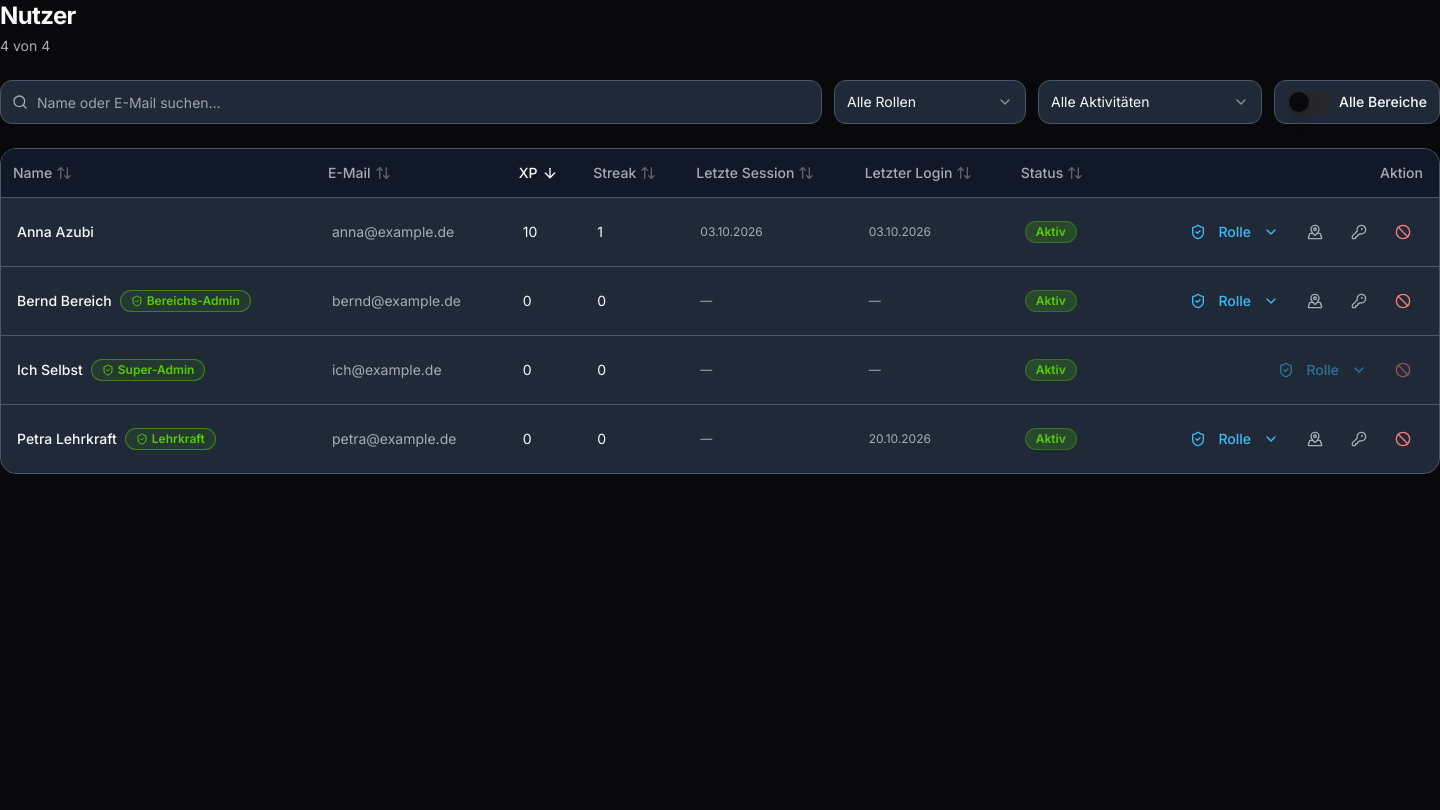
Nutzerliste – Passwort neu vergeben (PROJ-58) › Dialog: Vorschlag, zu kurz gesperrt, nach dem Setzen gut lesbar angezeigt
The image size is (1440, 810).
Click the button named "Passwort für Anna Azubi neu vergeben" at (1359, 232), box [1339,214,1379,250]
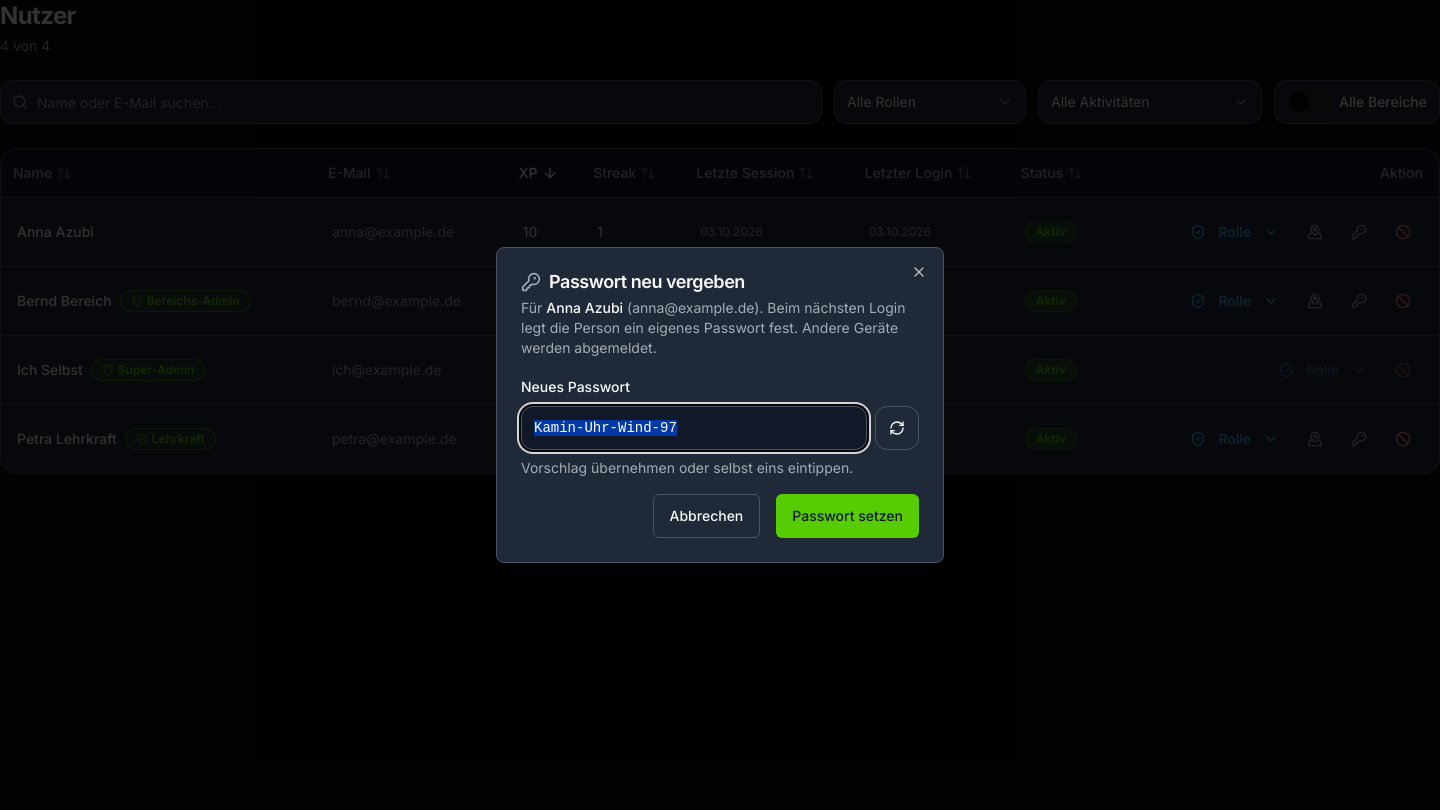
Replace the text in the field labelled "Neues Passwort" with "kurz" at (694, 428), box [521,406,867,450]
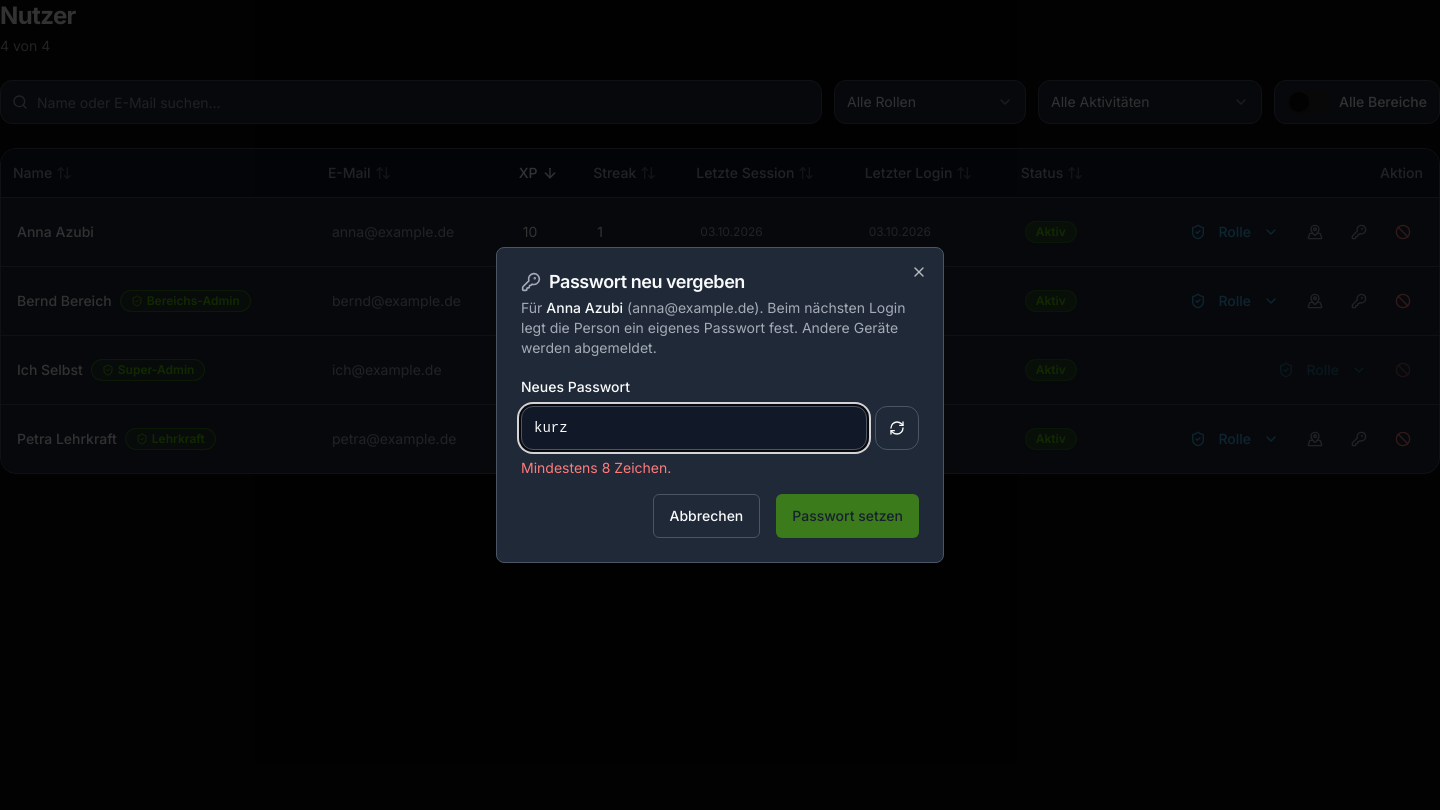
Expected: the button "Passwort setzen" is disabled, [776,494,919,538]
Expected: the text "Mindestens 8 Zeichen." is shown, [521,459,671,476]
Replace the text in the field labelled "Neues Passwort" with "Mein-Test-Passwort-22" at (694, 428), box [521,406,867,450]
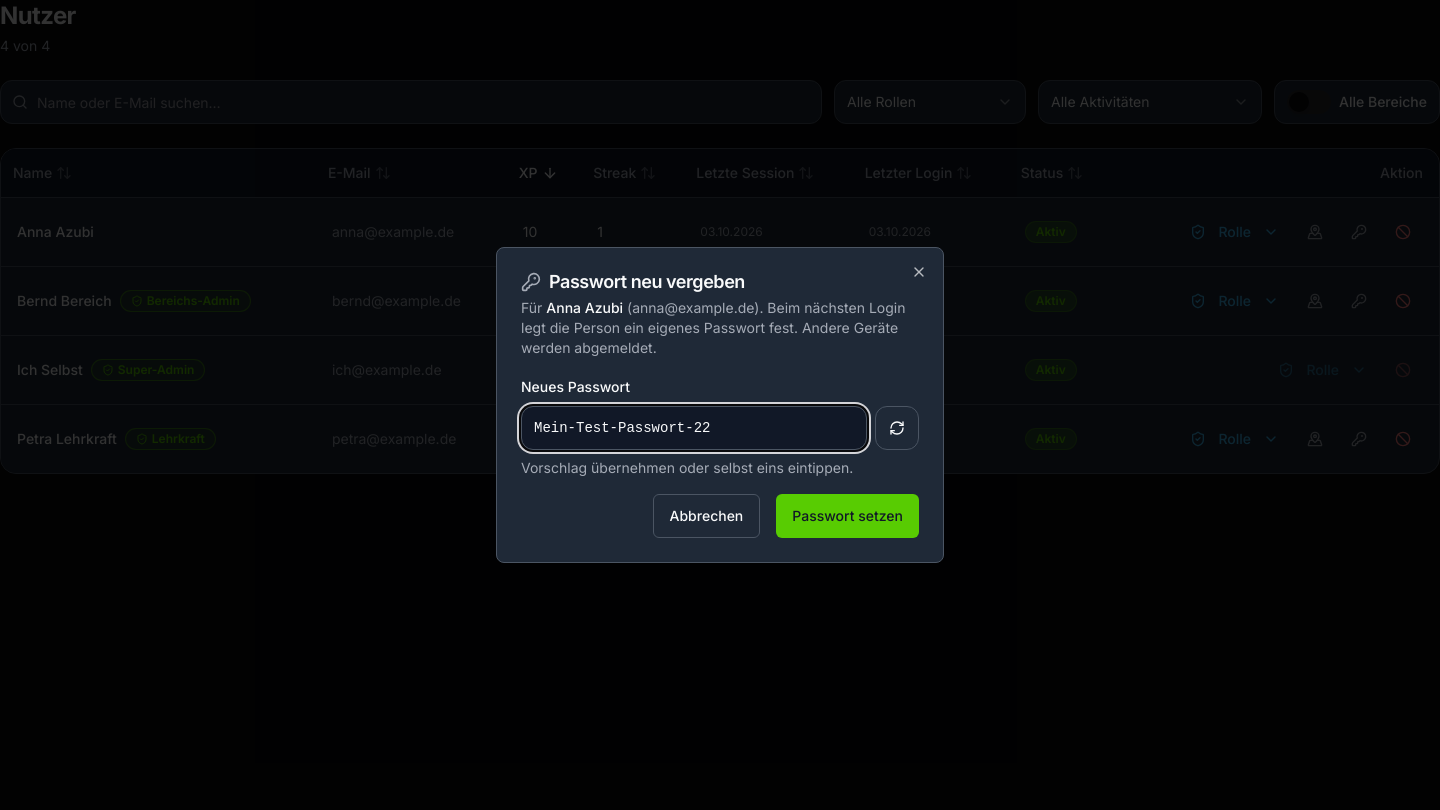
Click the button "Passwort setzen" at (848, 516), box [776,494,919,538]
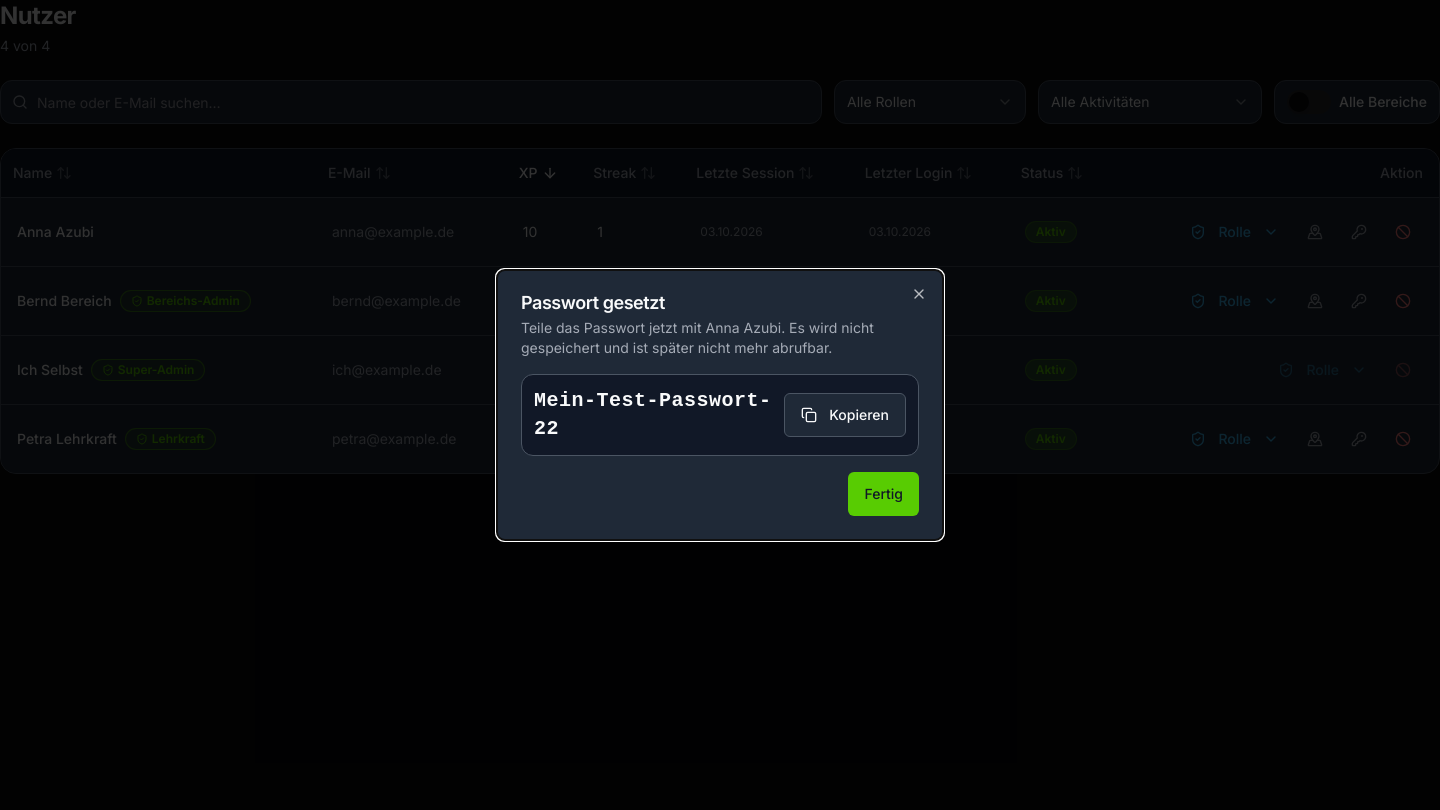
Expected: the heading "Passwort gesetzt" is shown, [521,292,665,313]
Expected: the text named "Neues Passwort" reads "Mein-Test-Passwort-22", [534,389,772,440]
